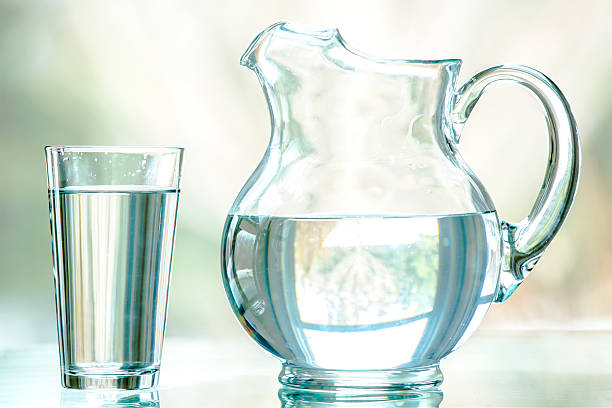glass of water: (218, 169, 514, 404), (43, 144, 168, 390)
